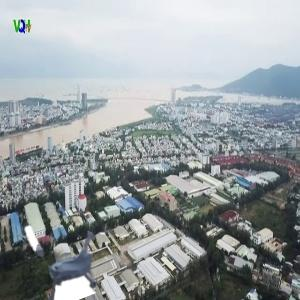drone: (26, 206, 121, 300)
